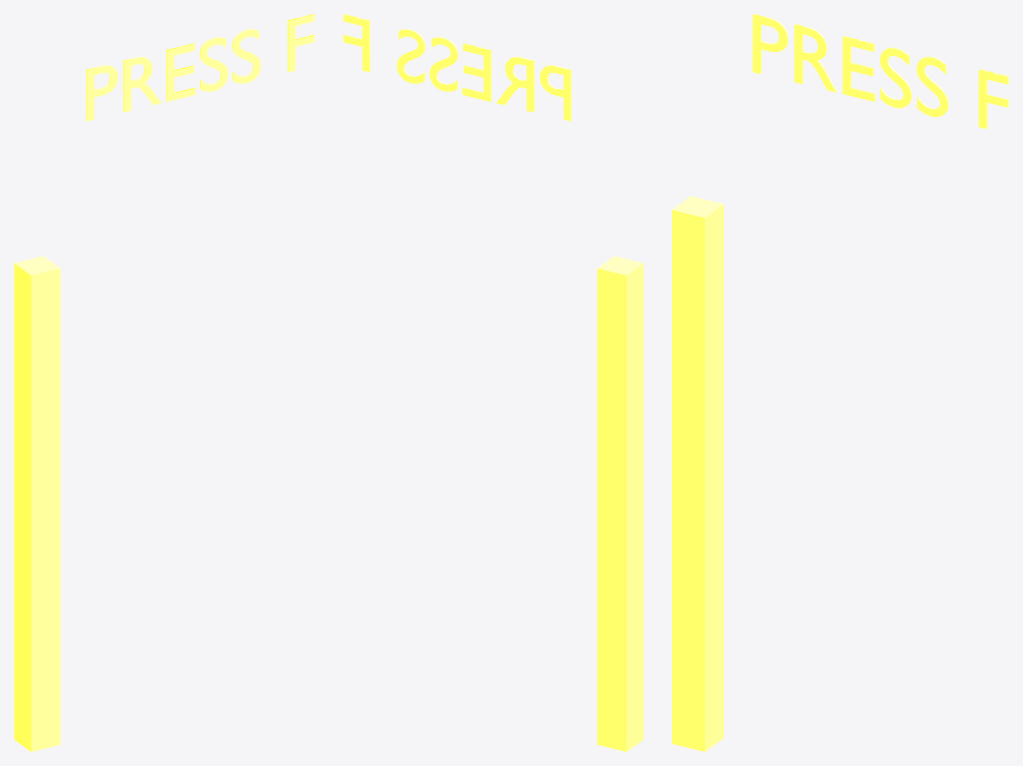
The model's file is FloorSelectAMarker.gltf.
3 views of the same model, side by side, from view 1: azimuth 30°, elevation 25°; view 2: azimuth 150°, elevation 25°; view 3: azimuth 330°, elevation 25° (orthographic). The views are drawn at different scales.
Visible parts, largest first — view 1: FloorSelectAMarker; view 2: FloorSelectAMarker; view 3: FloorSelectAMarker.
Boxes of the visible parts, <box> form: FloorSelectAMarker: <box>14,14,314,751</box>; FloorSelectAMarker: <box>343,14,643,751</box>; FloorSelectAMarker: <box>672,14,1008,751</box>.
Size of the model in its own units: 0.4705 by 1.02 by 0.0475.
